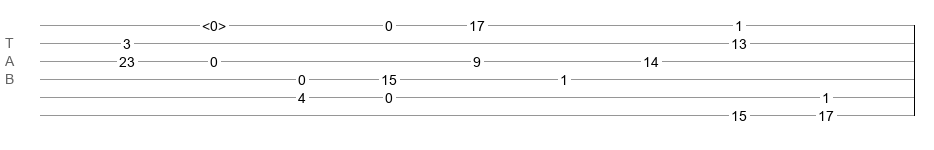0: (210, 54, 218, 64), (298, 72, 306, 82), (385, 90, 393, 100), (385, 18, 393, 28)
1: (560, 72, 568, 82), (735, 18, 743, 28), (822, 90, 830, 100)
13: (731, 36, 747, 46)
14: (643, 54, 659, 64)
15: (381, 72, 397, 82), (731, 108, 747, 118)
17: (469, 18, 485, 28), (818, 108, 834, 118)
23: (119, 54, 135, 64)
3: (123, 36, 131, 46)
4: (298, 90, 306, 100)
9: (473, 54, 481, 64)
harmonic: (202, 18, 226, 28)
